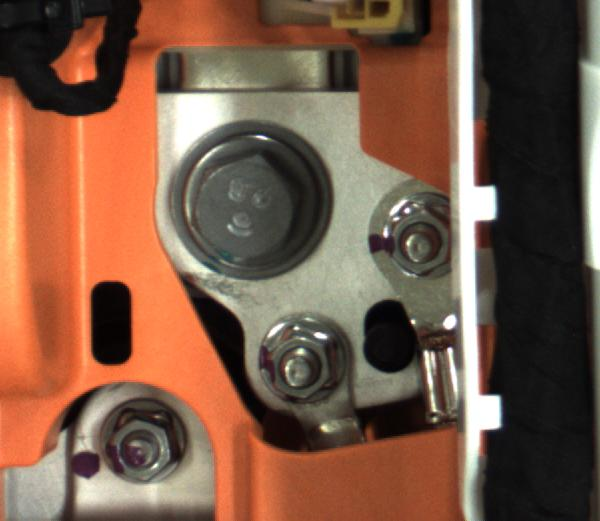nut_b: (164, 124, 341, 282)
screw_s: (251, 313, 352, 405), (105, 408, 183, 483), (381, 201, 458, 270)
